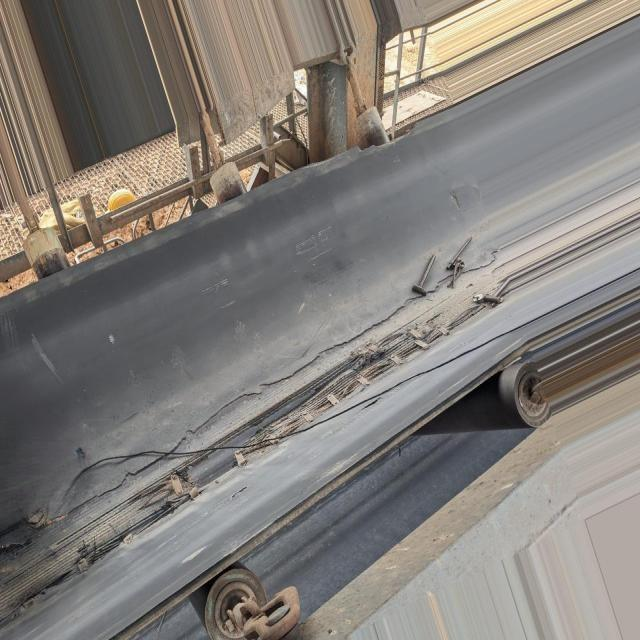Tear: (0, 265, 515, 630)
